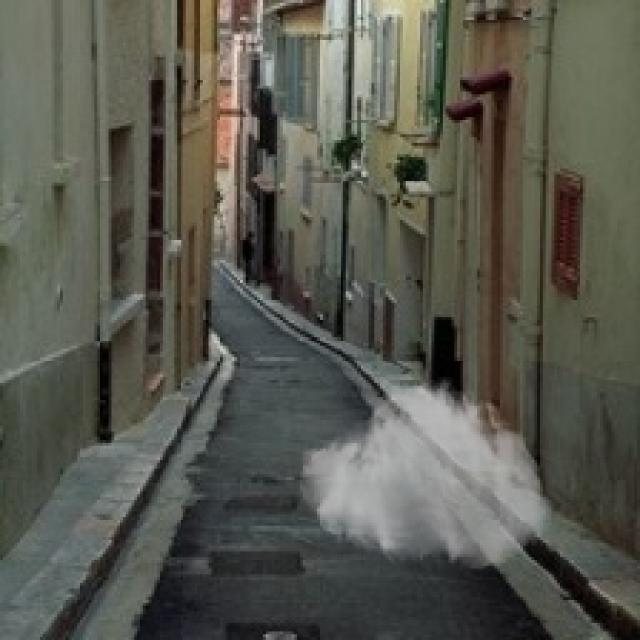smoke: (297, 372, 554, 572)
